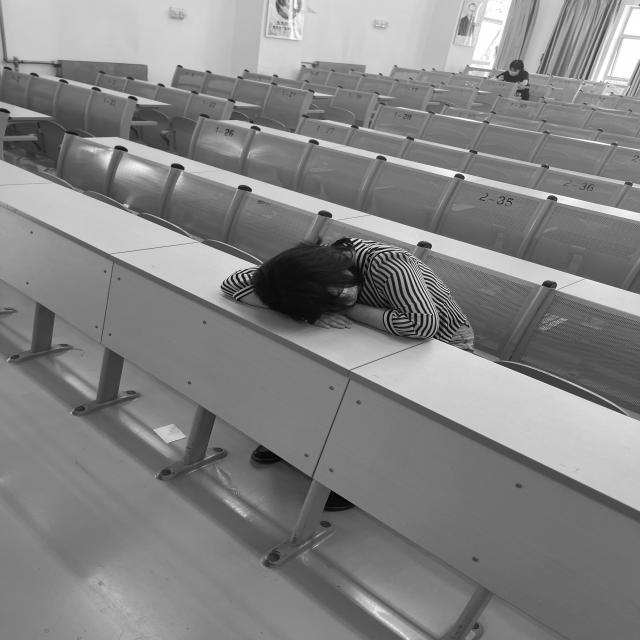sleep: (220, 239, 471, 342)
